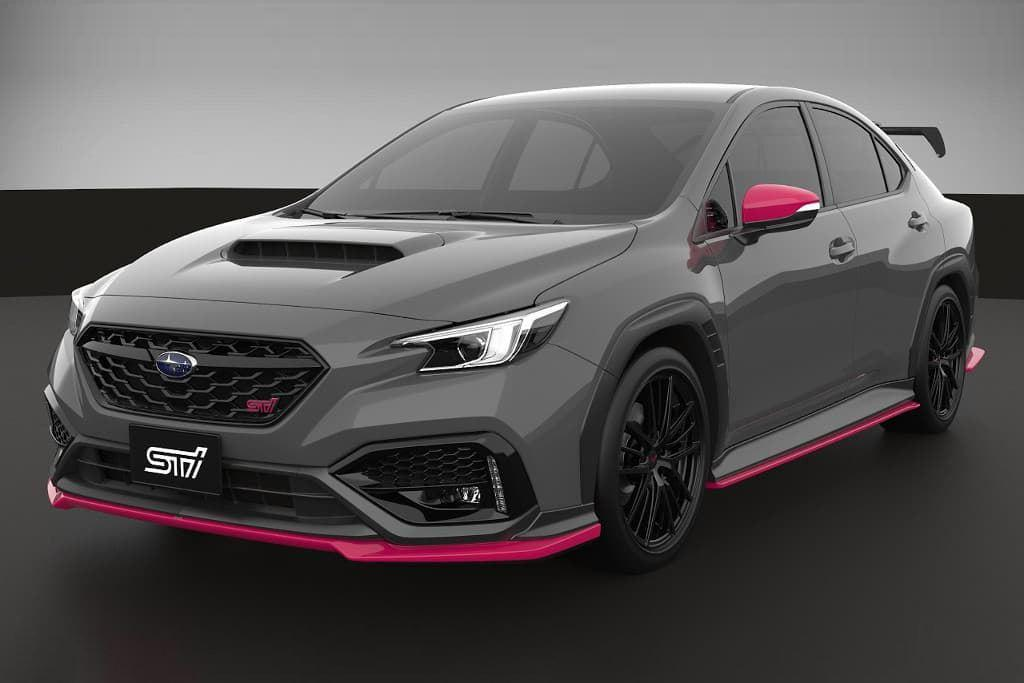subaru: (149, 343, 203, 384)
